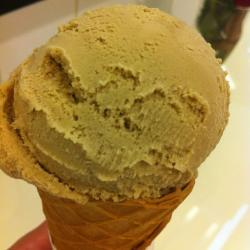icecream: (17, 7, 232, 205)
